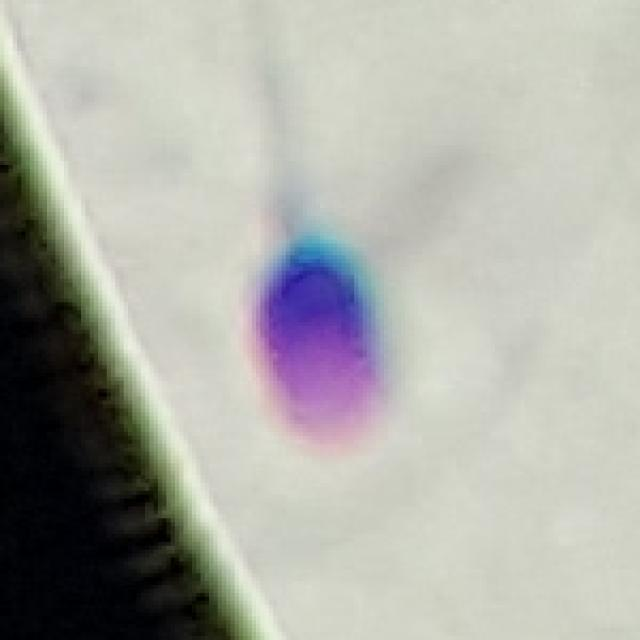normal sperm: (216, 42, 408, 478)
